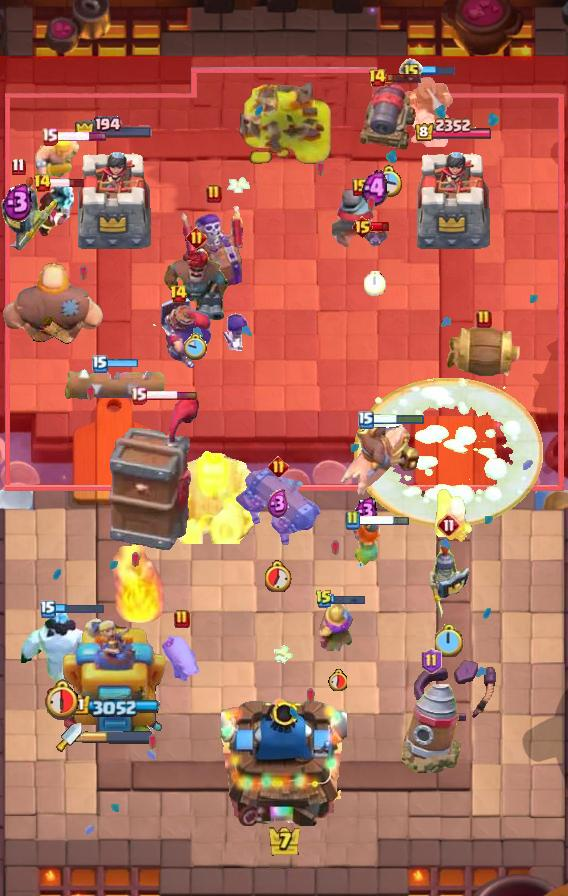archer: (35, 137, 83, 179)
balloon: (0, 261, 106, 351)
bar: (61, 615, 166, 731)
barbarian-barrel: (361, 225, 389, 249)
battle-healer: (233, 466, 323, 548)
bomb-tower: (319, 595, 355, 651)
dart-goblin: (106, 393, 200, 553)
electro-spirit: (2, 182, 34, 222), (362, 169, 388, 206), (354, 496, 378, 526), (267, 489, 289, 519)
elixir: (41, 678, 79, 720), (435, 624, 464, 657), (374, 165, 403, 197), (265, 560, 292, 592), (184, 333, 208, 360), (364, 271, 386, 296), (328, 669, 347, 691)
elixir-golem-big: (143, 296, 213, 372)
emote: (371, 413, 424, 427), (357, 513, 411, 526), (54, 603, 106, 615), (144, 390, 198, 401), (55, 131, 108, 142), (386, 72, 423, 84), (49, 177, 86, 189), (330, 593, 366, 605), (421, 64, 456, 76), (106, 358, 140, 370), (370, 220, 390, 231)
firecracker: (332, 186, 388, 250)
freeze: (336, 423, 420, 499)
giant: (159, 633, 205, 685)
giant-skeleton: (155, 450, 265, 544)
goblin: (220, 313, 252, 353)
hog-rider: (347, 519, 385, 571)
inferno-dragon: (397, 71, 455, 147)
king-tower: (221, 690, 347, 826)
king-tower-bar: (82, 730, 154, 744)
lumberjack: (34, 179, 80, 239)
magic-archer: (398, 679, 464, 777)
minion: (62, 368, 166, 402)
phoenix-big: (353, 377, 542, 526)
phoenix-small: (161, 245, 231, 323)
princess: (0, 174, 58, 254), (427, 538, 471, 620)
queen-tower: (71, 144, 157, 255), (410, 144, 496, 255)
rage: (20, 609, 100, 683)
royal-giant-evolution: (359, 81, 417, 151)
selected: (68, 694, 159, 717), (74, 115, 154, 140), (414, 117, 494, 142)
skeleton-king-bar: (181, 201, 247, 295)
text: (399, 58, 423, 82), (437, 513, 461, 537), (351, 215, 374, 239), (421, 648, 442, 674), (185, 227, 206, 249), (268, 455, 289, 476), (368, 68, 388, 88), (33, 173, 52, 193), (168, 284, 187, 304), (315, 589, 333, 609), (41, 127, 59, 146), (130, 386, 147, 405), (206, 184, 222, 204), (476, 309, 492, 329), (344, 510, 360, 530), (174, 609, 190, 629), (352, 178, 368, 196), (92, 355, 108, 373), (358, 411, 374, 429), (40, 600, 56, 618), (11, 157, 25, 175)
the-log: (444, 323, 524, 383)
tombstone: (433, 486, 475, 544)
valkyrie: (112, 542, 170, 628)
